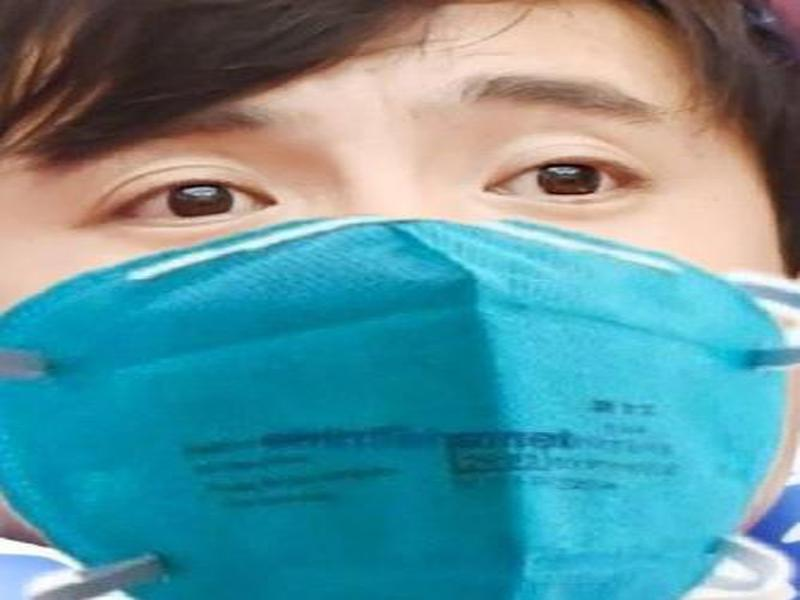with_mask: (1, 7, 795, 600)
